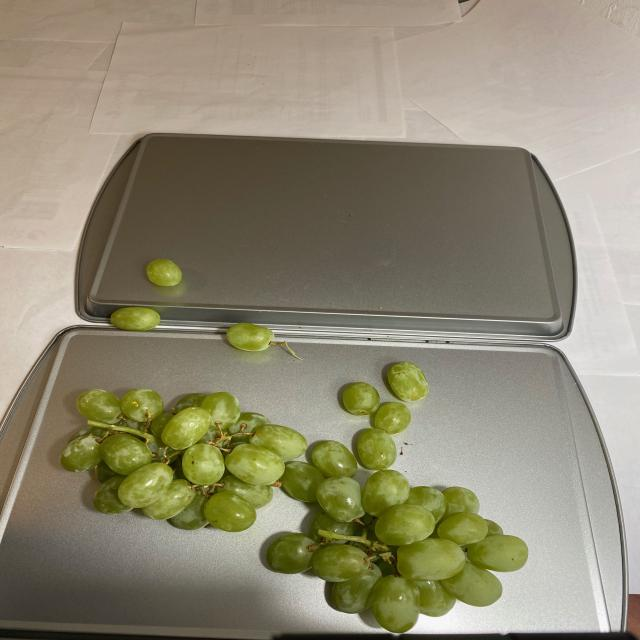grapes: (65, 362, 538, 632), (107, 258, 288, 366)
